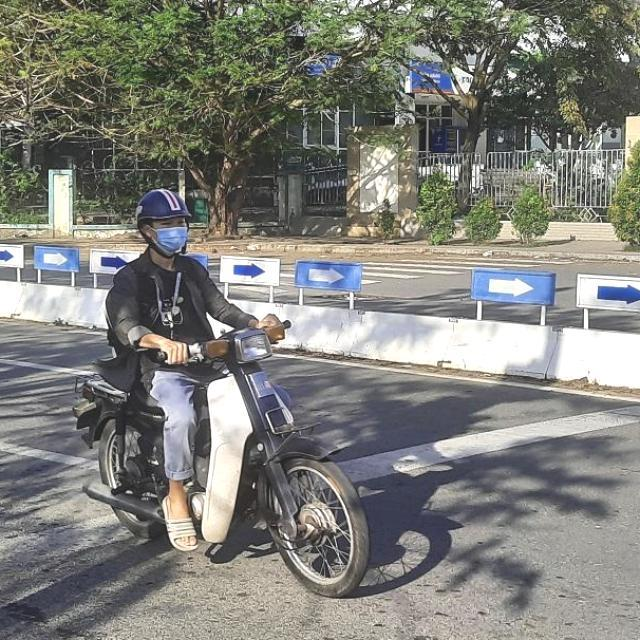Helmet: (132, 187, 196, 261)
